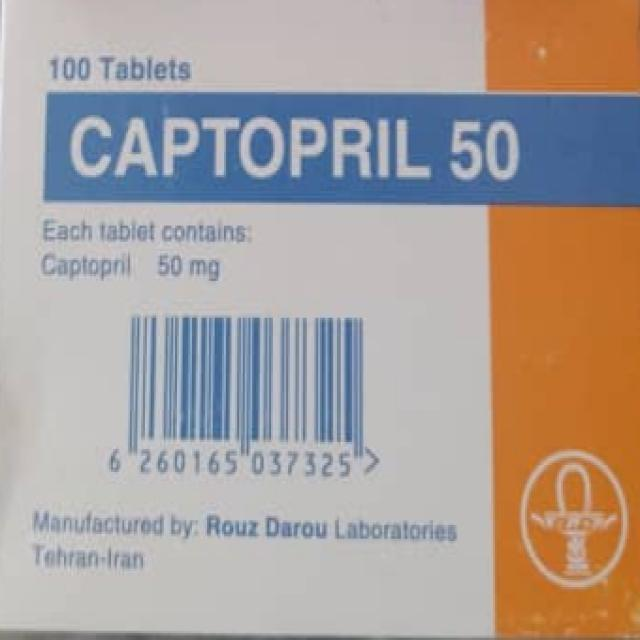drug-name: (63, 106, 530, 184)
